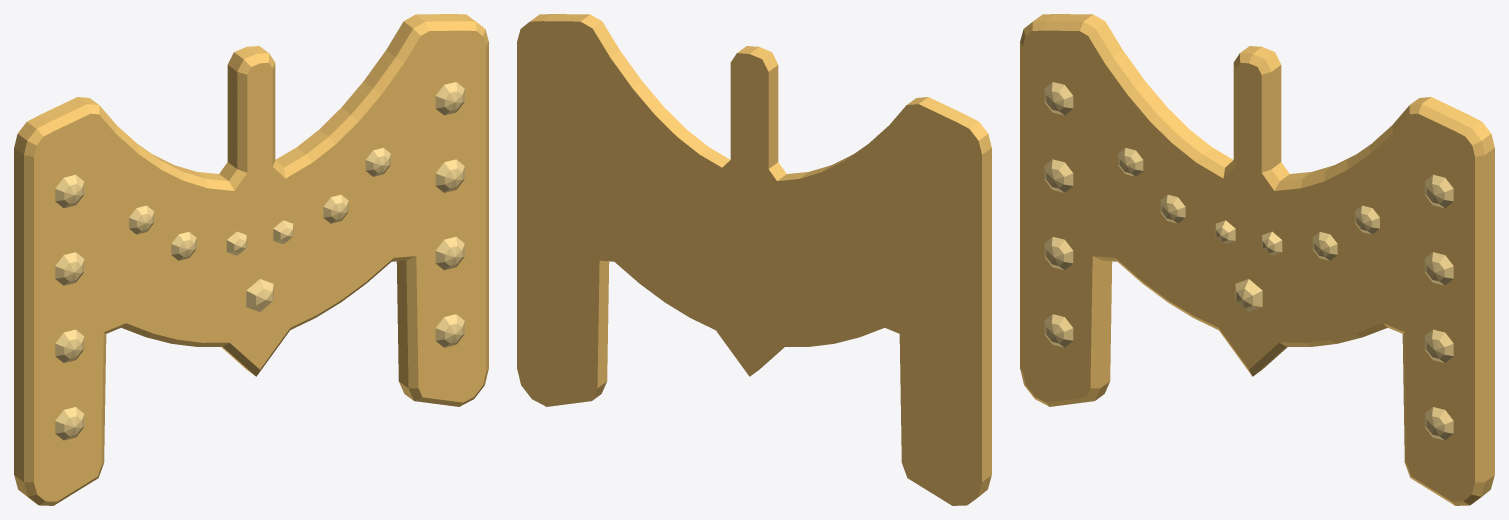
File: nariguera-oro.glb
3 renders of one model, left to right at view 1: azimuth 30°, elevation 25°; view 2: azimuth 150°, elevation 25°; view 3: azimuth 330°, elevation 25°, orthographic.
Parts seen in each view (by area): view 1: nariguera-oro; view 2: nariguera-oro; view 3: nariguera-oro.
Boxes of the visible parts, box(x1,y1,x2,y2) form: nariguera-oro: box(14, 14, 488, 505); nariguera-oro: box(517, 14, 991, 505); nariguera-oro: box(1020, 14, 1494, 505).
Size of the model in its own units: 0.22 by 0.182 by 0.016.
